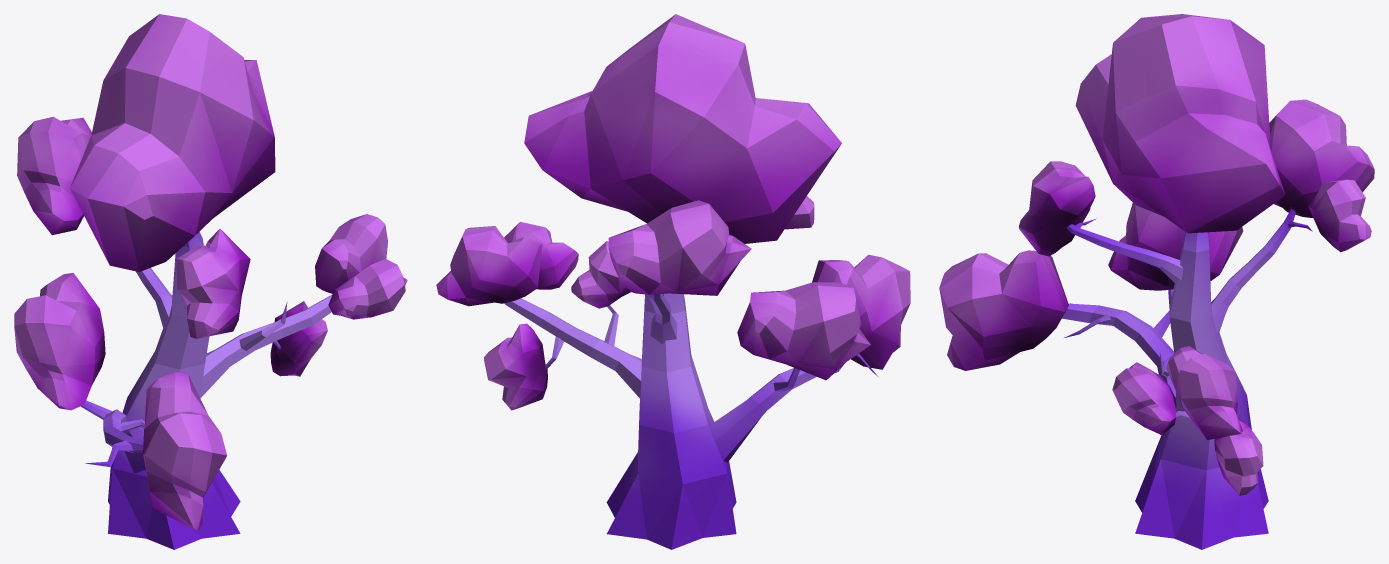
File: tree_15.fbx
3 views of the same model, side by side, from view 1: azimuth 30°, elevation 25°; view 2: azimuth 150°, elevation 25°; view 3: azimuth 270°, elevation 25° (orthographic). The views are drawn at different scales.
Parts seen in each view (by area): view 1: leaf_tree_15:Group1, tree_15:Group2, Group4, Group5, Group6, Group1, Group2, Group3, Group8; view 2: leaf_tree_15:Group1, tree_15:Group2, Group6, Group5, Group2, Group4, Group8, Group3, Group7, Group1; view 3: leaf_tree_15:Group1, tree_15:Group2, Group4, Group6, Group1, Group2, Group5, Group7, Group3, Group8.
Boxes of the visible parts, left/top/right/bottom form: leaf_tree_15:Group1: left=70, top=14, right=275, bottom=271; tree_15:Group2: left=80, top=232, right=332, bottom=549; Group4: left=143, top=372, right=227, bottom=531; Group5: left=14, top=273, right=105, bottom=410; Group6: left=17, top=116, right=91, bottom=235; Group1: left=175, top=229, right=250, bottom=338; Group2: left=315, top=214, right=387, bottom=293; Group3: left=328, top=259, right=407, bottom=319; Group8: left=270, top=301, right=327, bottom=376; leaf_tree_15:Group1: left=524, top=14, right=841, bottom=243; tree_15:Group2: left=504, top=293, right=877, bottom=549; Group6: left=608, top=200, right=751, bottom=295; Group5: left=737, top=282, right=870, bottom=380; Group2: left=436, top=226, right=542, bottom=306; Group4: left=812, top=254, right=910, bottom=369; Group8: left=484, top=323, right=547, bottom=410; Group3: left=504, top=221, right=578, bottom=289; Group7: left=571, top=241, right=630, bottom=308; Group1: left=785, top=196, right=814, bottom=229; leaf_tree_15:Group1: left=1075, top=14, right=1285, bottom=233; tree_15:Group2: left=1062, top=209, right=1312, bottom=549; Group4: left=939, top=250, right=1068, bottom=370; Group6: left=1269, top=99, right=1374, bottom=217; Group1: left=1018, top=161, right=1095, bottom=256; Group2: left=1166, top=346, right=1242, bottom=439; Group5: left=1108, top=202, right=1243, bottom=290; Group7: left=1308, top=179, right=1371, bottom=252; Group3: left=1112, top=362, right=1176, bottom=434; Group8: left=1214, top=417, right=1263, bottom=495.
Bounding box in the file's own units: 60.76 × 73.26 × 57.28.
